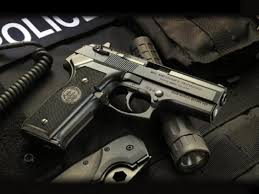Arma Real: (22, 34, 225, 139)
